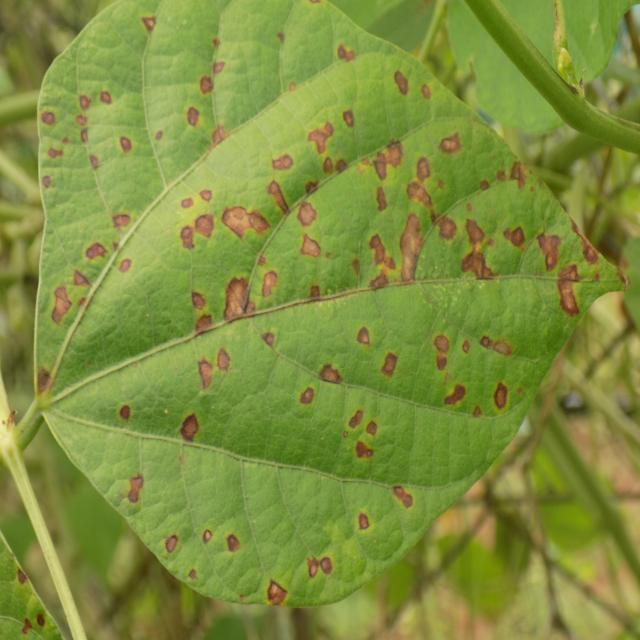Dolicos bean_cercospora leaf spot: (35, 0, 640, 610)
